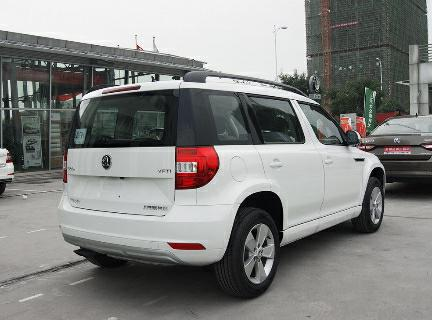斯柯达-Yeti: (54, 76, 397, 304)
